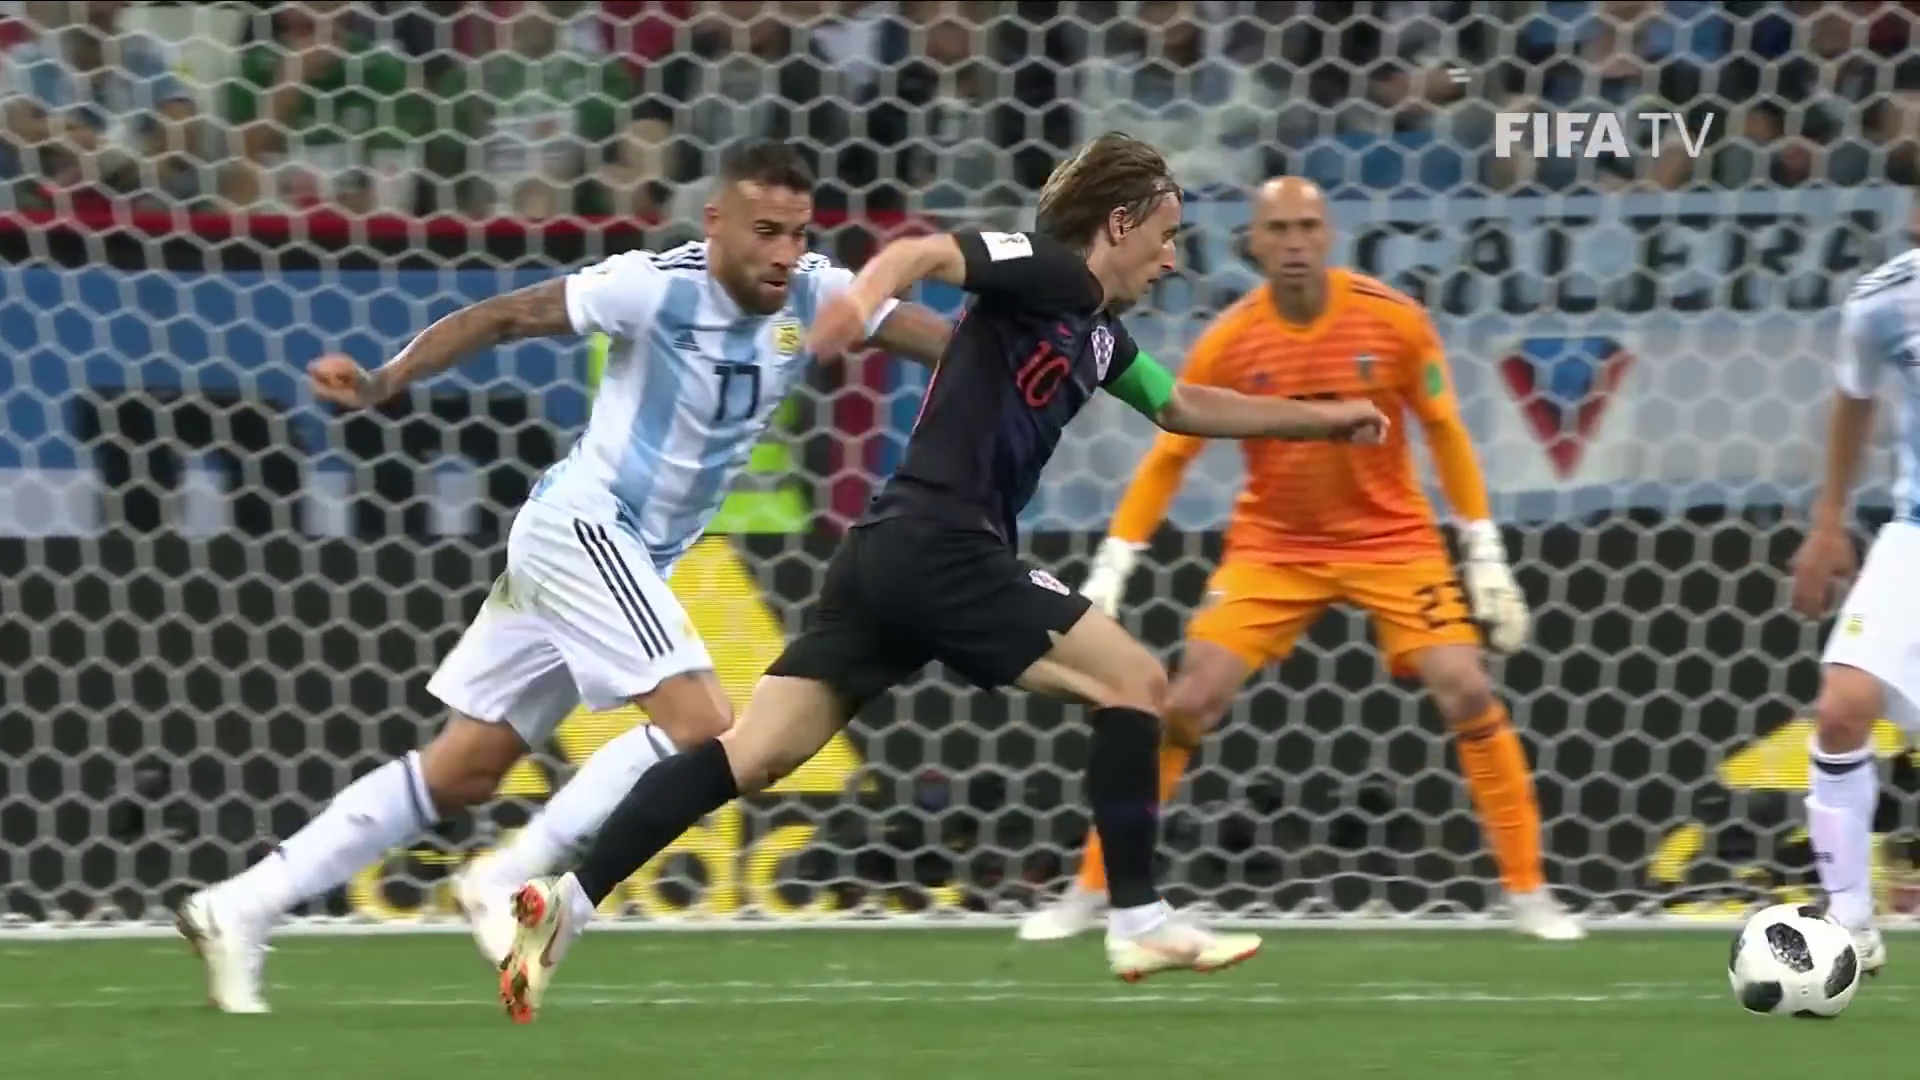ball: (1728, 902, 1854, 1016)
person: (589, 125, 1267, 976), (203, 135, 810, 1014), (1089, 163, 1581, 939)
